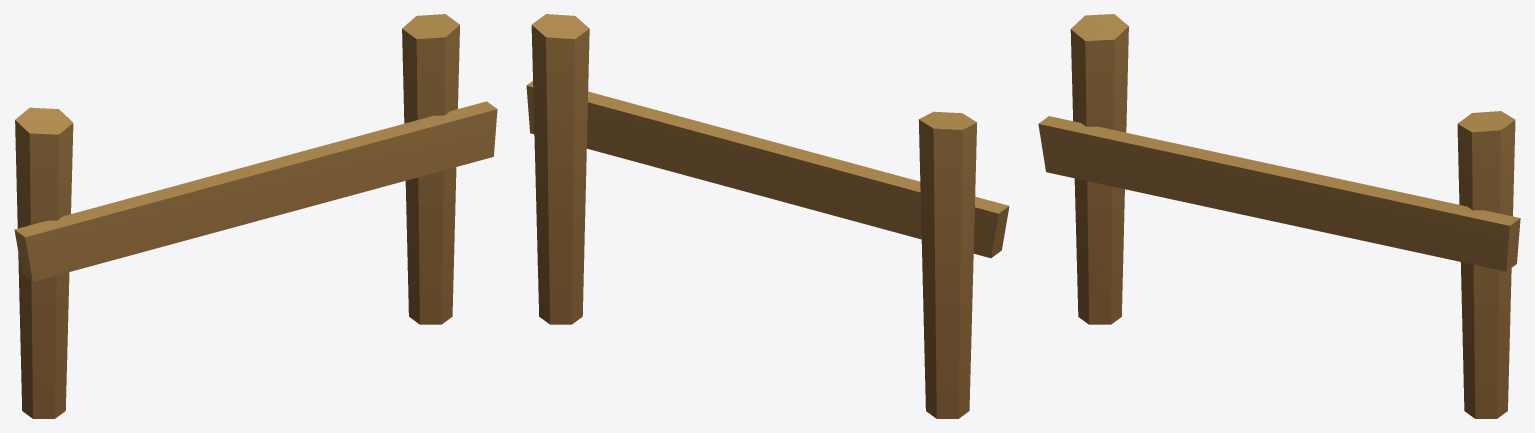
The model's file is Wood_Fences_03.fbx.
The picture shows the model from 3 angles, left to right: view 1: azimuth 30°, elevation 25°; view 2: azimuth 150°, elevation 25°; view 3: azimuth 330°, elevation 25°; orthographic projection.
Visible parts, largest first — view 1: Wood_Fences_03; view 2: Wood_Fences_03; view 3: Wood_Fences_03.
Part boxes in pixels (x1,y1,x2,y2): Wood_Fences_03: (14,14,497,418); Wood_Fences_03: (526,14,1009,418); Wood_Fences_03: (1038,14,1520,418).
Bounding box in the file's own units: 178 × 106 × 23.58.
